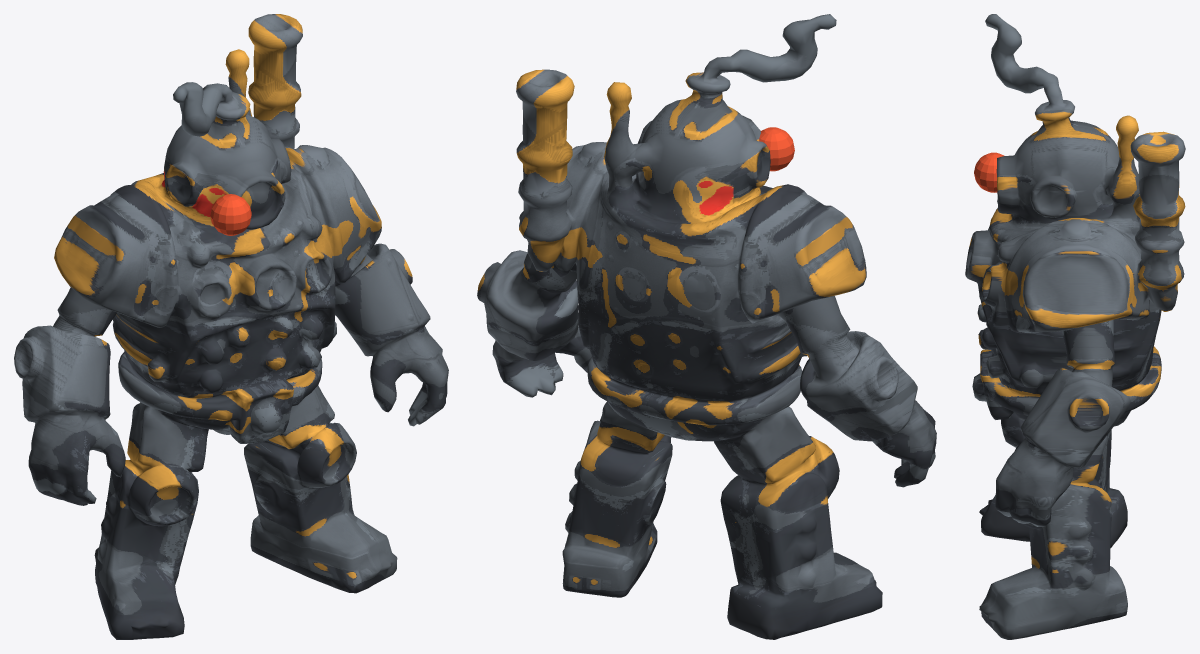
File: sentinel_hy.glb
The picture shows the model from 3 angles, left to right: view 1: azimuth 30°, elevation 25°; view 2: azimuth 150°, elevation 25°; view 3: azimuth 270°, elevation 25°; orthographic projection. The views are drawn at different scales.
Visible parts, largest first — view 1: Body, Eye; view 2: Body, Eye; view 3: Body, Eye.
Part boxes in pixels (x1,y1,x2,y2): Body: (14,14,448,639); Eye: (210,194,251,235); Body: (477,14,936,639); Eye: (759,127,794,171); Body: (965,14,1185,639); Eye: (974,152,1004,192).
Bounding box in the file's own units: 1.59 × 1.99 × 0.7637.
2 materials, 1 textured.
